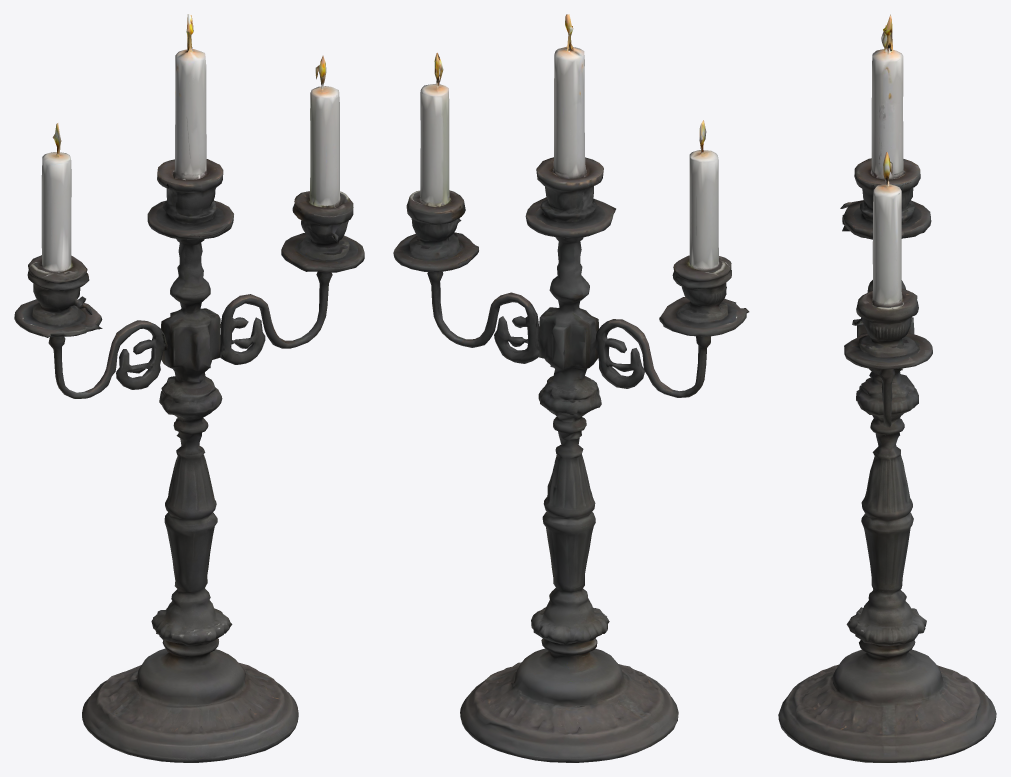
The model's file is Meshy_AI_soviet_style_candlest_0330052034_texture.glb.
3 views of the same model, side by side, from view 1: azimuth 30°, elevation 25°; view 2: azimuth 150°, elevation 25°; view 3: azimuth 270°, elevation 25° (orthographic).
Size of the model in its own units: 0.998 by 1.99 by 0.5596.
1 material, 1 textured.
